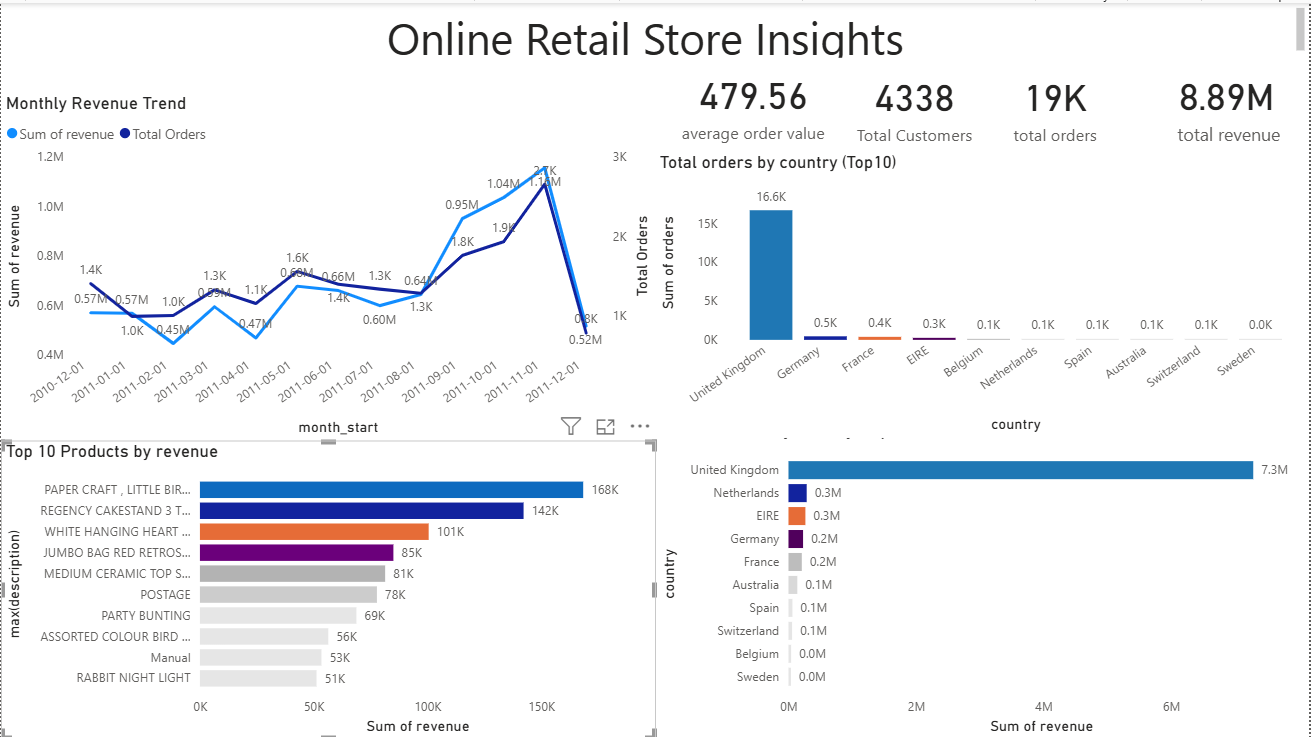

What the dashboard file says about the page in this screenshot:
{"tool":"powerbi","page":{"name":"Page 1","canvas":[1280,720],"ordinal":0},"visuals":[{"type":"card","fields":{"Values":["Sum(retail_online v_kpi_totals.total_revenue)"]},"box":[1117.7,47.7,162.6,105.2],"z":0},{"type":"card","fields":{"Values":["Sum(retail_online v_kpi_totals.total_orders)"]},"box":[945.2,44,172.4,112.5],"z":1000},{"type":"card","fields":{"Values":["Sum(retail_online v_kpi_totals.total_customers)"]},"box":[813.2,51.4,161.4,97.8],"z":2000},{"type":"card","fields":{"Values":["Sum(retail_online v_kpi_totals.aov)"]},"box":[639.5,51.4,193.2,94.2],"z":3000},{"type":"textbox","box":[0,0,1280.3,58.7],"z":4000},{"type":"lineChart","title":"Monthly Revenue Trend","fields":{"Category":["retail_online v_kpi_monthly.month_start"],"Y":["Sum(retail_online v_kpi_monthly.revenue)"],"Y2":["Sum(retail_online v_kpi_monthly.orders)"]},"box":[0,88,639.5,339.9],"z":5000},{"type":"barChart","title":"Top 10 Products by revenue","fields":{"Y":["Sum(retail_online v_product_kpi.revenue)"],"Category":["retail_online v_product_kpi.max(description)"],"Series":["retail_online v_product_kpi.max(description)"]},"box":[0,428,640.8,292.3],"z":6000},{"type":"barChart","title":"Total Revenue by country (Top10)","fields":{"Y":["Sum(retail_online v_country_kpi.revenue)"],"Category":["retail_online v_country_kpi.country"]},"box":[640.8,407.2,639.5,313],"z":7000},{"type":"columnChart","title":"Total orders by country (Top10)","fields":{"Category":["retail_online v_country_kpi.country"],"Y":["Sum(retail_online v_country_kpi.orders)"]},"box":[639.5,145.5,640.8,280],"z":7001}]}

Visuals, with their boxes in screenshot pixels (x1, y1, x2, y2), scaled from the page's 1280x720 canvas onto the 1311x737 screenshot:
card - Sum(retail_online v_kpi_totals.total_revenue): crop(1145, 49, 1310, 157)
card - Sum(retail_online v_kpi_totals.total_orders): crop(968, 45, 1145, 160)
card - Sum(retail_online v_kpi_totals.total_customers): crop(833, 53, 998, 153)
card - Sum(retail_online v_kpi_totals.aov): crop(655, 53, 853, 149)
textbox: crop(0, 0, 1310, 60)
"Monthly Revenue Trend" lineChart: crop(0, 90, 655, 438)
"Top 10 Products by revenue" barChart: crop(0, 438, 656, 736)
"Total Revenue by country (Top10)" barChart: crop(656, 417, 1310, 736)
"Total orders by country (Top10)" columnChart: crop(655, 149, 1310, 436)
